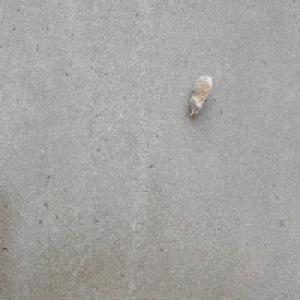Rock: (188, 72, 212, 120)
